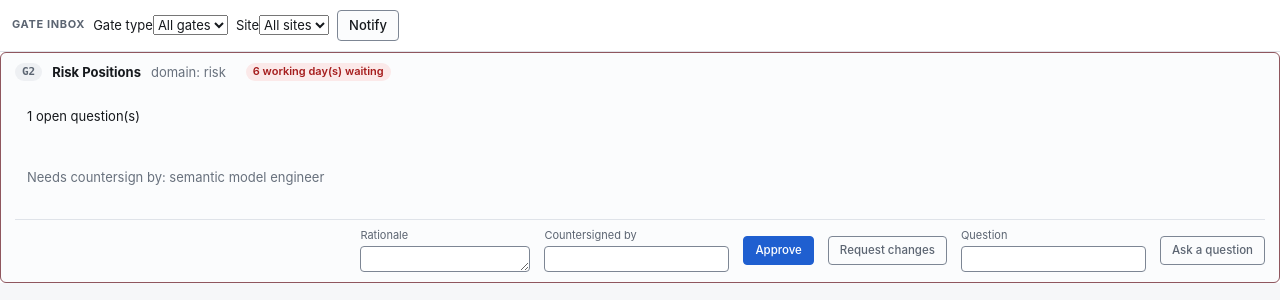
Test: acting on a card › approves a G2 item with the real countersigner and rationale
This screenshot has width=1280, height=300.
Expected: the text "Risk Positions" is shown, [52, 63, 141, 82]
In the text box labelled "Rationale": [445, 259] box [360, 246, 530, 272], type "A real rationale sentence."
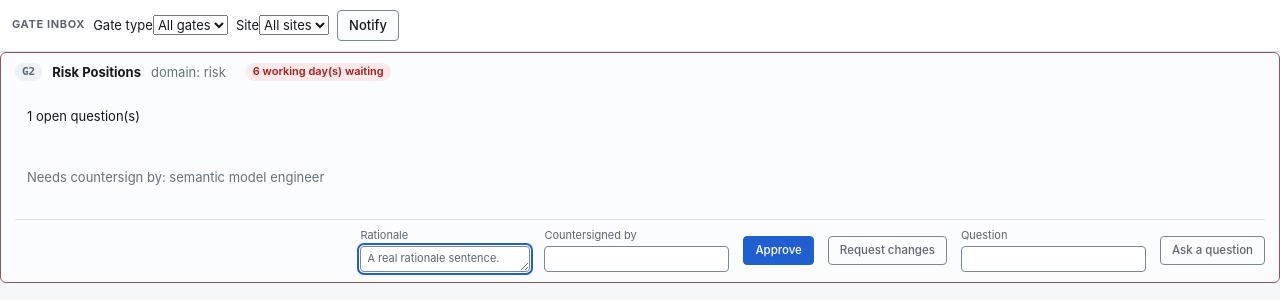
In the field labelled "Countersigned by": [637, 259] box [544, 246, 729, 272], type "S. Engineer"
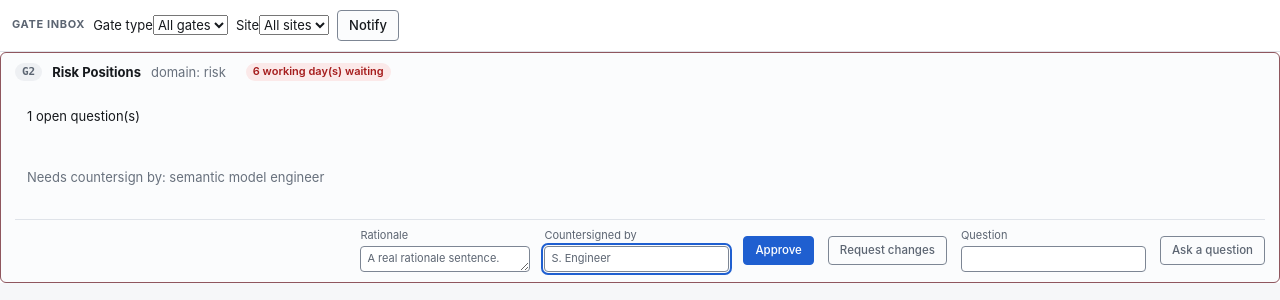
Click the button "Approve": [779, 250] box [743, 236, 814, 265]
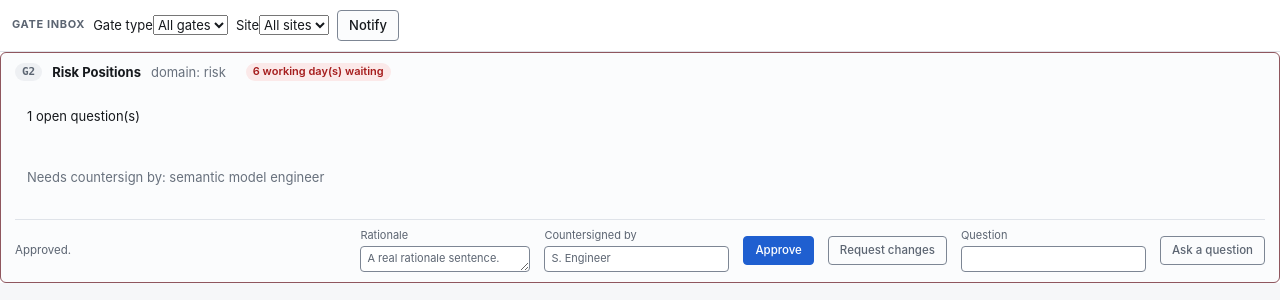
Expected: the text "Approved." is shown, [15, 242, 71, 259]
